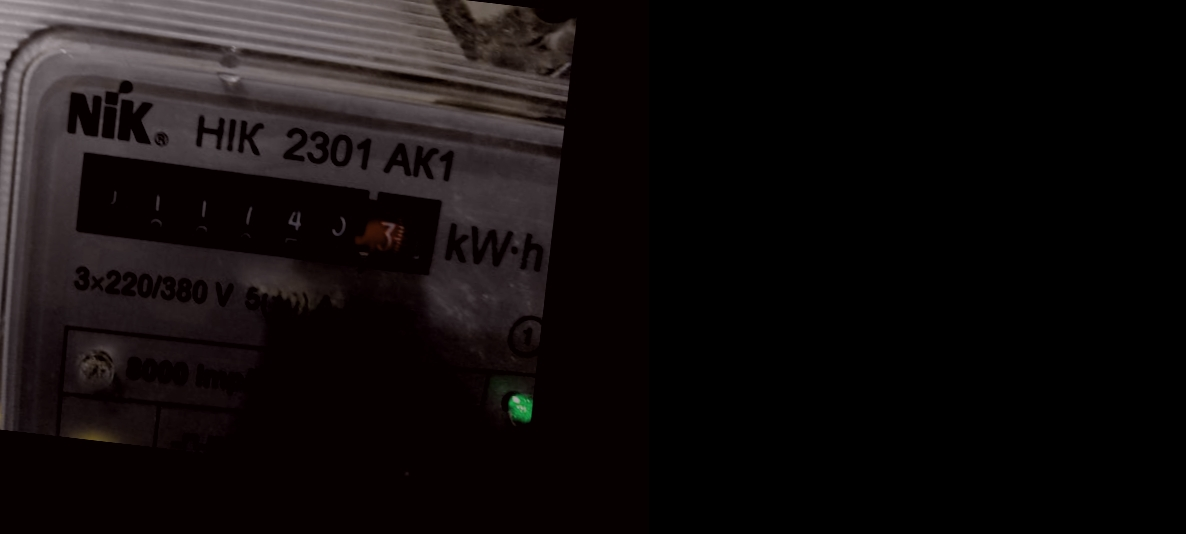0: (97, 168, 123, 210), (146, 173, 169, 216)
1: (193, 179, 213, 222)
3: (326, 198, 351, 243), (373, 216, 397, 256)
4: (282, 193, 306, 235)
7: (235, 184, 263, 231)
screen: (53, 137, 451, 288)
